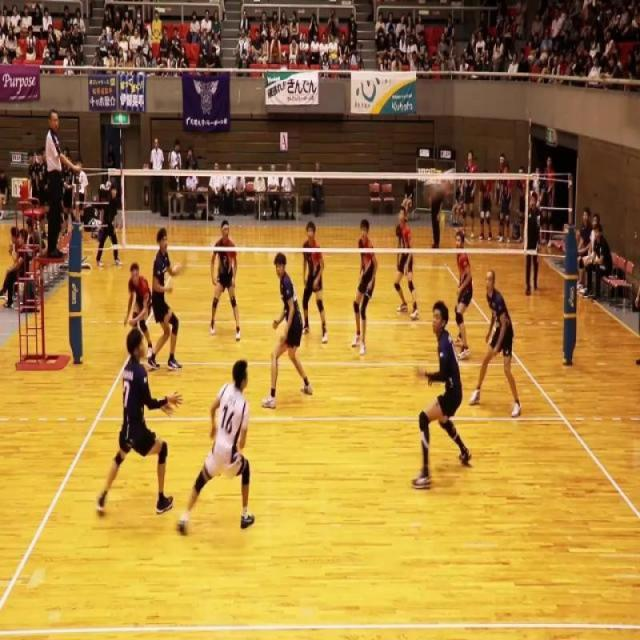volleyball: (422, 166, 457, 202)
